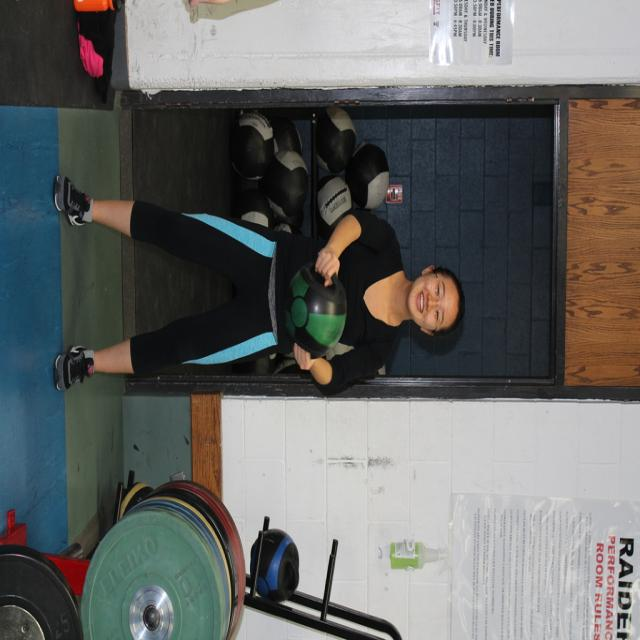Ball: (277, 260, 350, 360)
